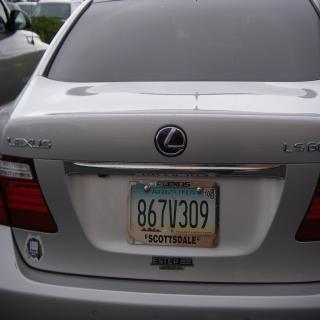license: (128, 178, 222, 251)
